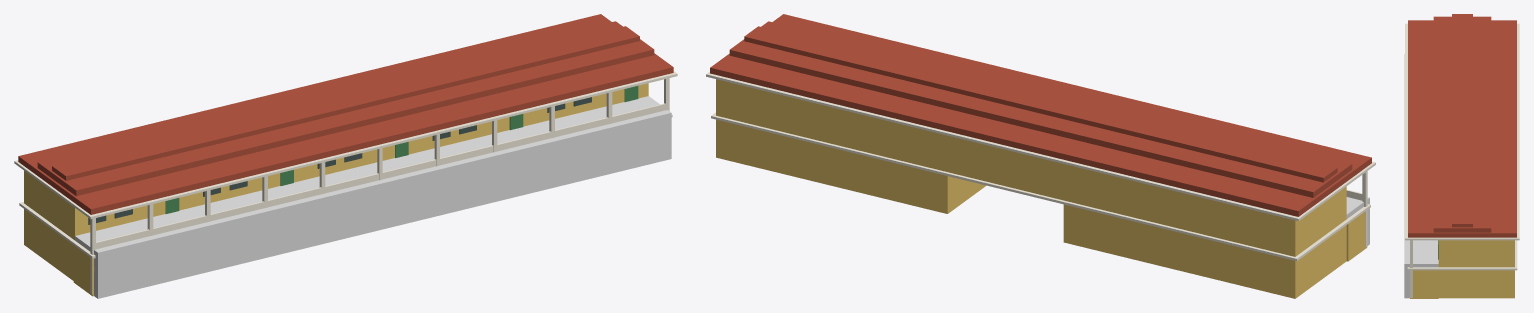
Rendered from zone_corridor.glb.
3 views of the same model, side by side, from view 1: azimuth 30°, elevation 25°; view 2: azimuth 150°, elevation 25°; view 3: azimuth 270°, elevation 25° (orthographic). The views are drawn at different scales.
Visible parts, largest first — view 1: ROOF_block, ZONE_corridor, UPPER_floor2, ROOM_closed_1, WALL_corr_west; view 2: ROOF_block, UPPER_floor2, ROOM_closed_1, ROOM_closed_4, ROOM_closed_2, ROOM_closed_5, WALL_corr_west; view 3: ROOF_block, UPPER_floor2, ROOM_closed_5, ZONE_corridor, WALL_corr_east.
Part boxes in pixels (x1,y1,x2,y2): ROOF_block: [14, 14, 677, 218]; ZONE_corridor: [75, 96, 671, 298]; UPPER_floor2: [19, 78, 672, 258]; ROOM_closed_1: [24, 209, 73, 280]; WALL_corr_west: [73, 245, 94, 296]; ROOF_block: [706, 14, 1375, 221]; UPPER_floor2: [711, 79, 1370, 261]; ROOM_closed_1: [1179, 225, 1346, 298]; ROOM_closed_4: [831, 148, 986, 213]; ROOM_closed_2: [1063, 204, 1179, 270]; ROOM_closed_5: [716, 119, 831, 185]; WALL_corr_west: [1346, 211, 1367, 261]; ROOF_block: [1405, 14, 1519, 240]; UPPER_floor2: [1407, 240, 1517, 270]; ROOM_closed_5: [1438, 270, 1514, 298]; ZONE_corridor: [1404, 54, 1438, 298]; WALL_corr_east: [1410, 270, 1438, 298].
Size of what is drawn, in the model's own units: 53.2 by 8.6 by 12.1.
